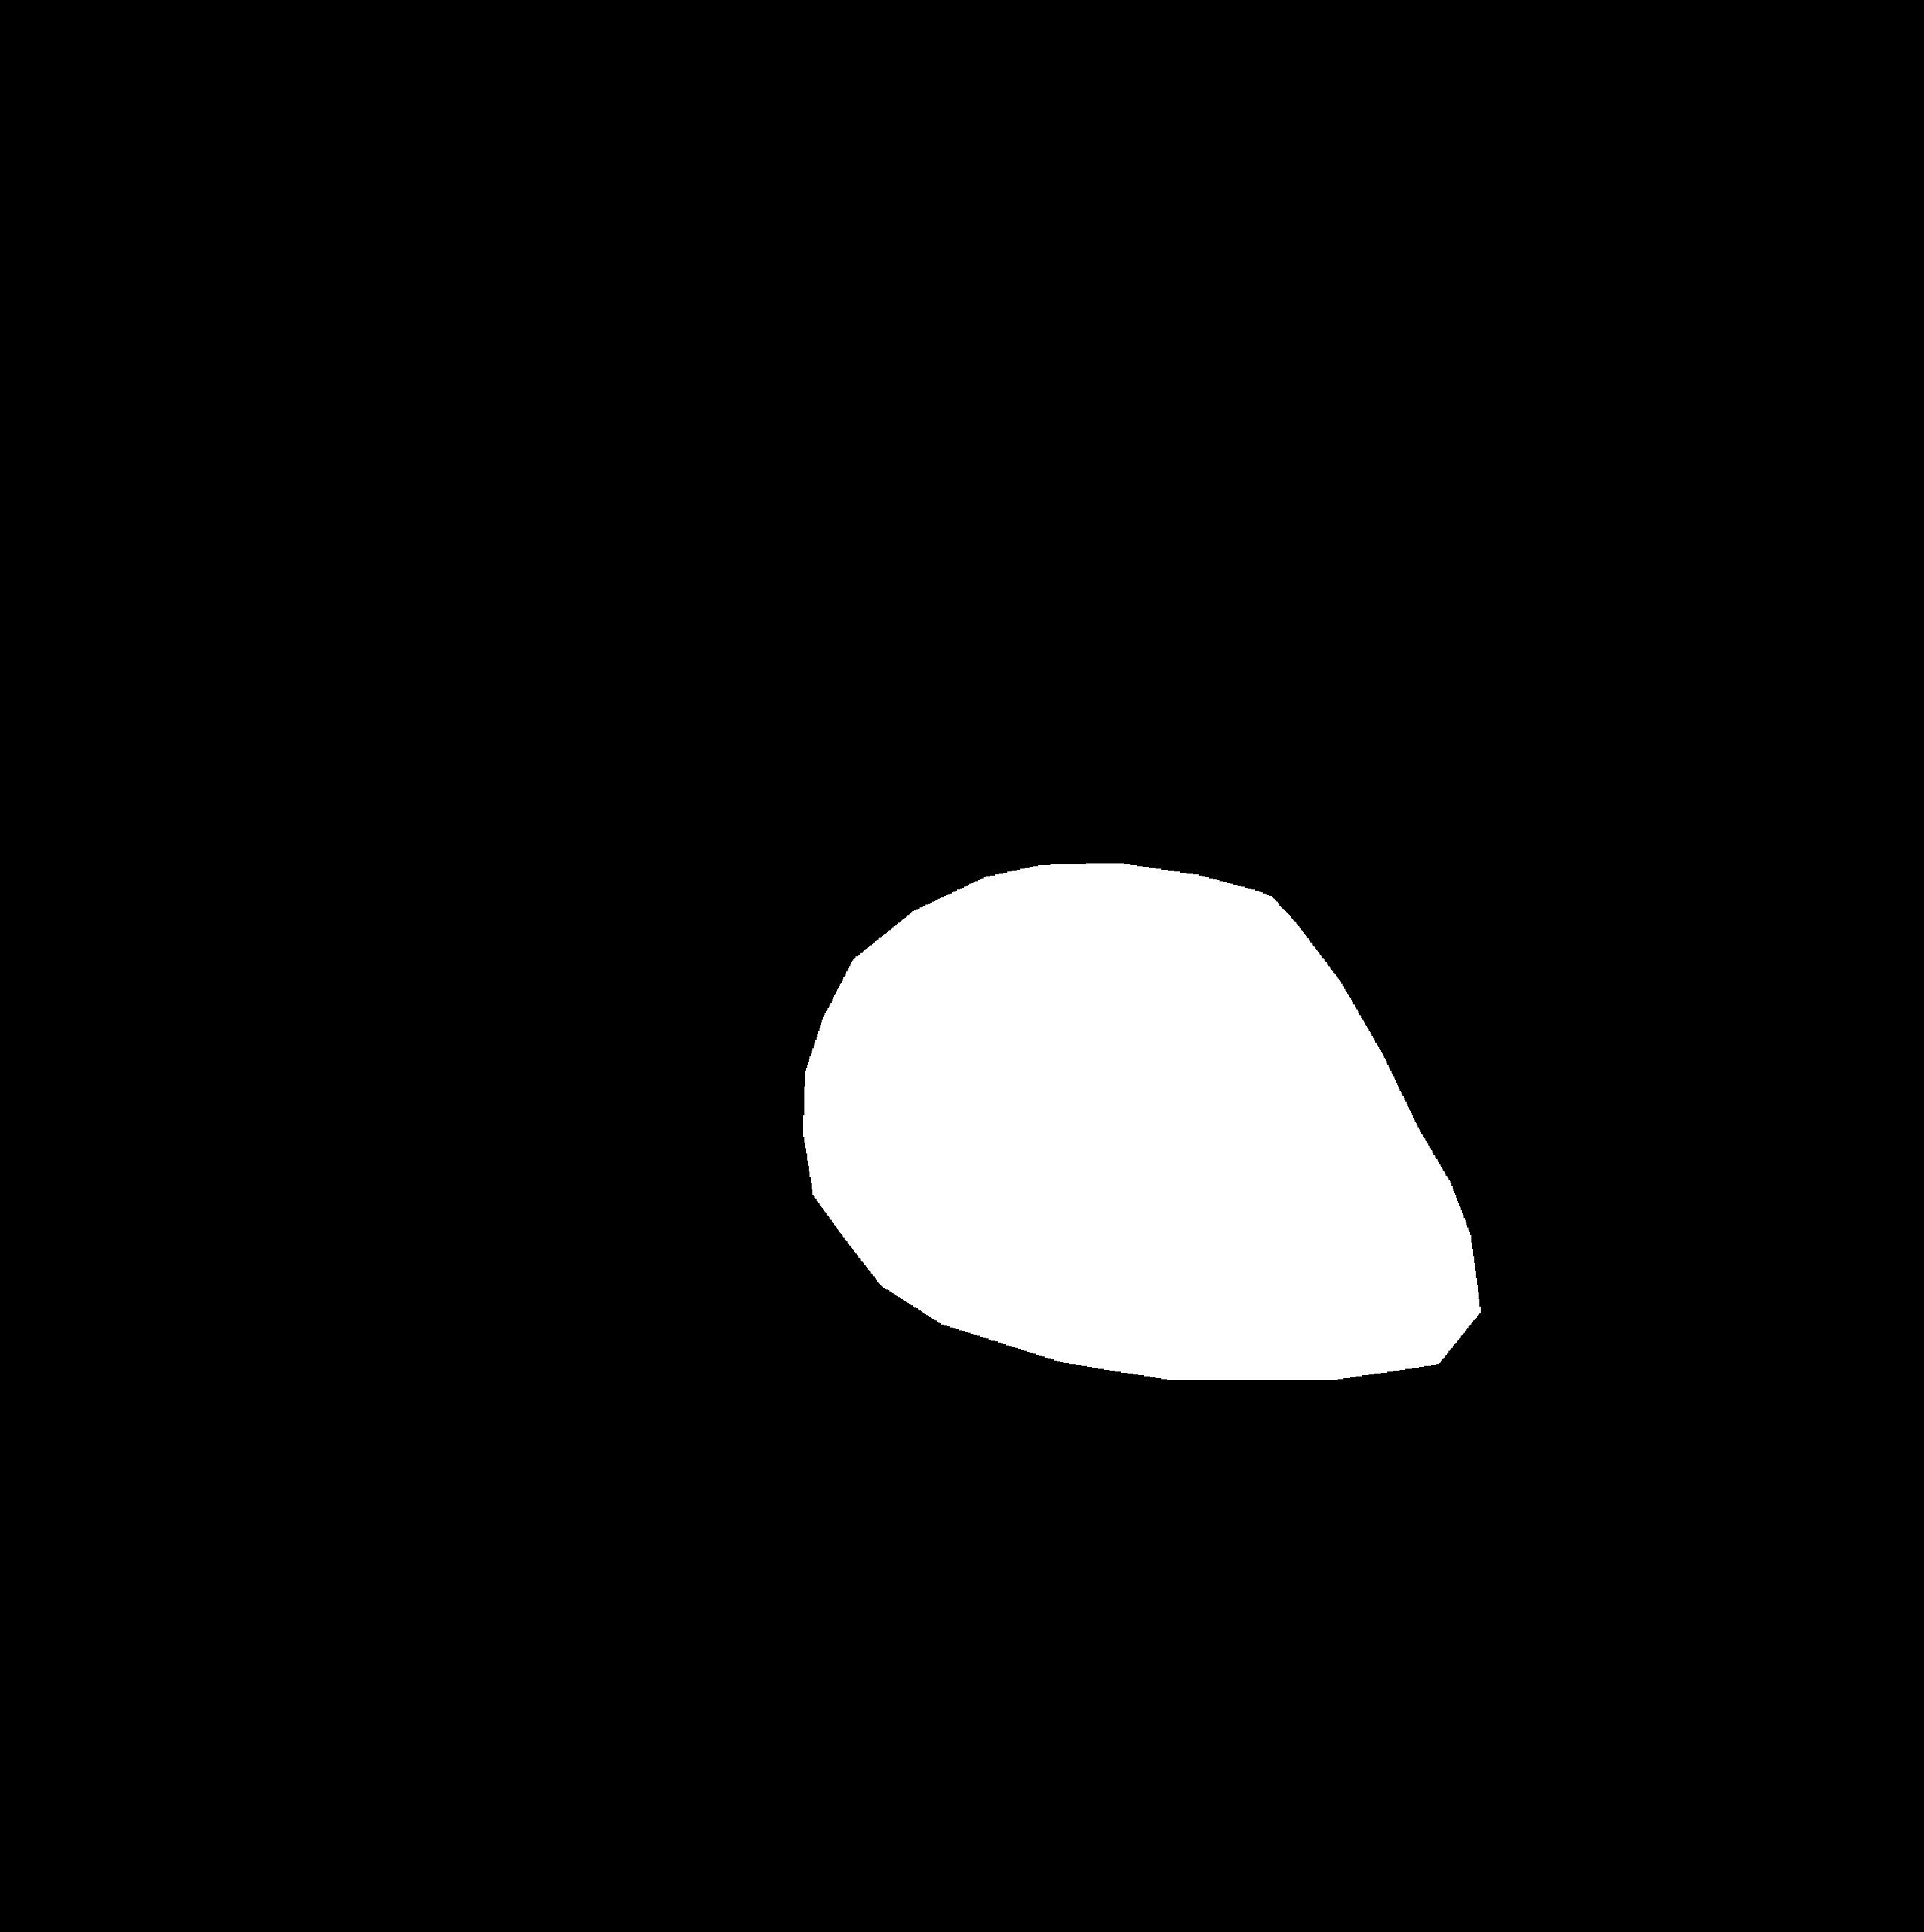heart: (812, 881, 1487, 1461)
left_lung: (218, 250, 950, 1527)
right_lung: (1168, 291, 1706, 1616)
